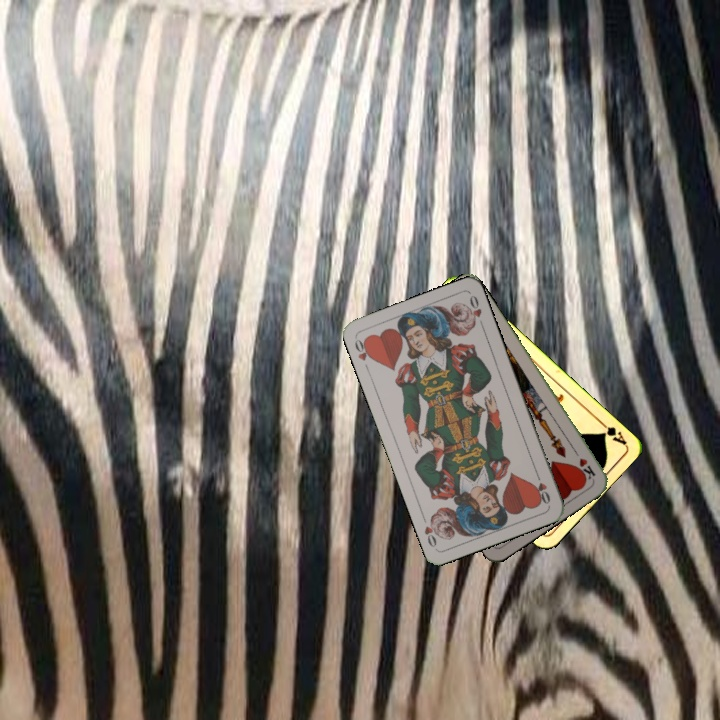GA: (594, 416, 629, 447)
HK: (569, 445, 598, 482)
HO: (531, 468, 553, 507), (350, 334, 376, 363)
